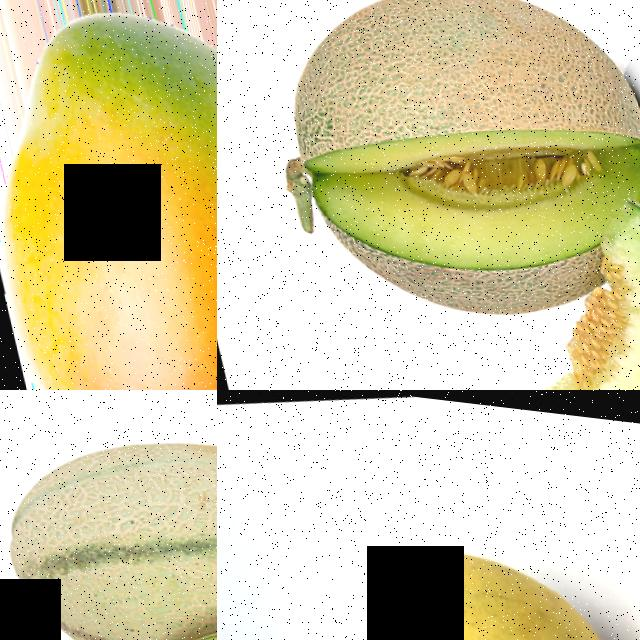mango: (0, 0, 217, 390), (321, 496, 640, 640)
melon: (237, 0, 640, 274), (0, 390, 217, 640), (452, 235, 640, 390)
